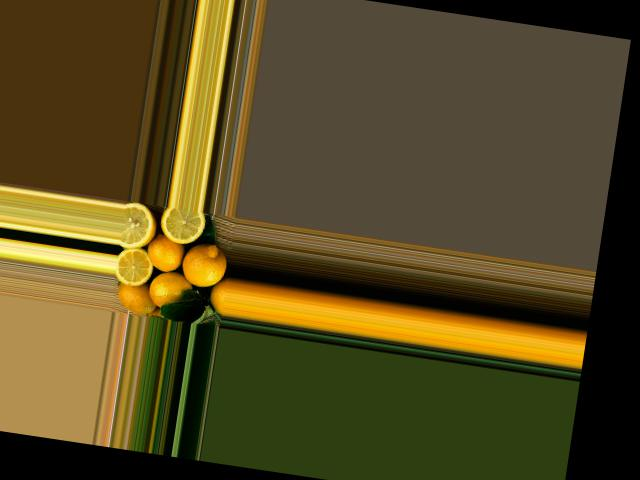lemon: (114, 279, 160, 316)
